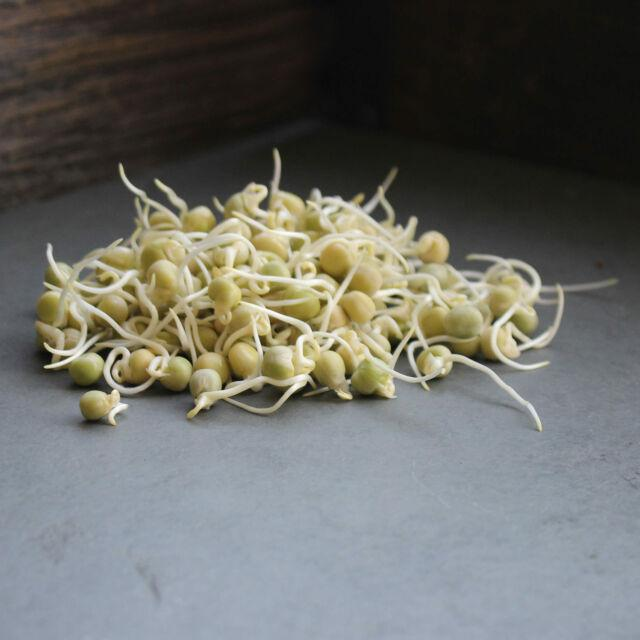pea: (34, 152, 566, 428)
